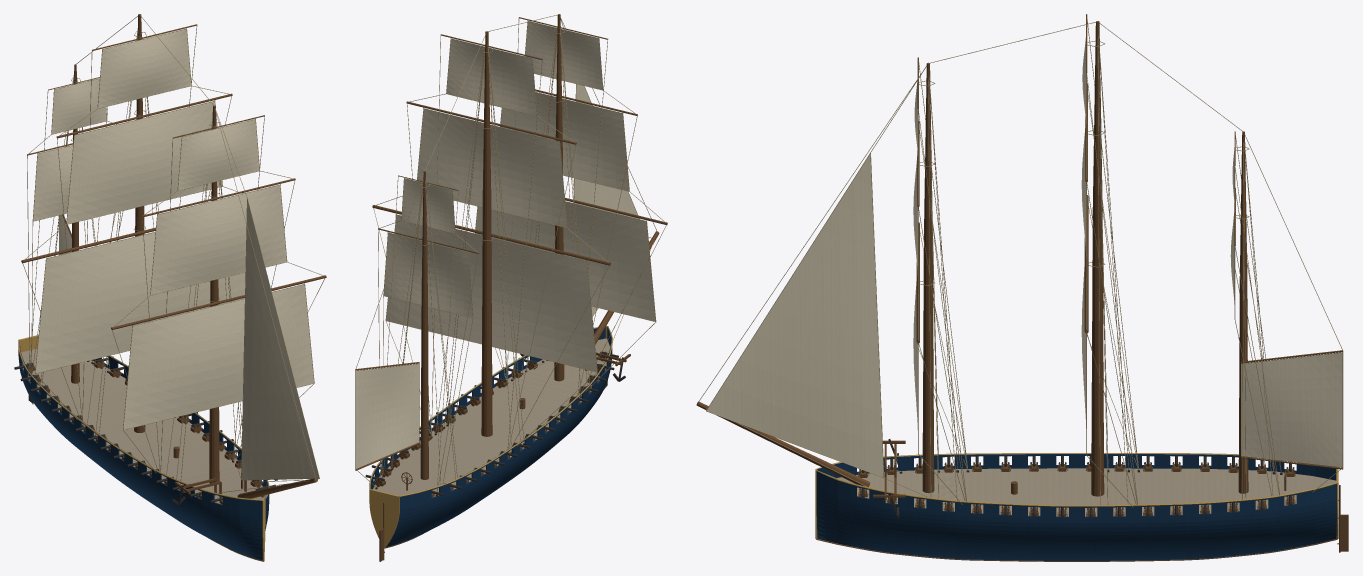
3 renders of one model, left to right at view 1: azimuth 30°, elevation 25°; view 2: azimuth 150°, elevation 25°; view 3: azimuth 270°, elevation 25°, orthographic. The views are drawn at different scales.
Visible parts, largest first — view 1: lod2_fore_square_00, lod2_main_square_00, lod2_jib_00, lod2_main_square_01, lod2_main_deck, lod2_fore_square_01, lod2_hull_shell_starboard, lod2_main_square_02, lod2_fore_square_02, lod2_mizzen_square_00, lod2_mizzen_square_01, lod2_fore (+10 smaller); view 2: lod2_main_square_00, lod2_main_square_01, lod2_main_deck, lod2_fore_square_00, lod2_hull_shell_starboard, lod2_fore_square_01, lod2_mizzen_gaff_02, lod2_mizzen_square_00, lod2_main_square_02, lod2_main, lod2_fore_square_02, lod2_mizzen (+12 smaller); view 3: lod2_jib_00, lod2_hull_shell_port, lod2_main_deck, lod2_mizzen_gaff_02, lod2_main, lod2_hull_shell_starboard, lod2_fore, lod2_mizzen, lod2_gunwale_port, lod2_bowsprit, lod2_keel.
Boxes of the visible parts, x1=… form: lod2_fore_square_00: x1=123, y1=284, x2=313, y2=429; lod2_main_square_00: x1=35, y1=232, x2=245, y2=372; lod2_jib_00: x1=241, y1=200, x2=319, y2=479; lod2_main_square_01: x1=67, y1=101, x2=222, y2=223; lod2_main_deck: x1=21, y1=348, x2=266, y2=504; lod2_fore_square_01: x1=151, y1=185, x2=286, y2=294; lod2_hull_shell_starboard: x1=19, y1=340, x2=262, y2=560; lod2_main_square_02: x1=98, y1=29, x2=191, y2=108; lod2_fore_square_02: x1=178, y1=119, x2=259, y2=190; lod2_mizzen_square_00: x1=33, y1=145, x2=72, y2=220; lod2_mizzen_square_01: x1=51, y1=78, x2=106, y2=133; lod2_fore: x1=209, y1=105, x2=219, y2=483; lod2_main_square_00: x1=386, y1=215, x2=597, y2=371; lod2_main_square_01: x1=417, y1=109, x2=566, y2=227; lod2_main_deck: x1=373, y1=338, x2=609, y2=496; lod2_fore_square_00: x1=475, y1=201, x2=655, y2=321; lod2_hull_shell_starboard: x1=386, y1=327, x2=612, y2=547; lod2_fore_square_01: x1=500, y1=92, x2=629, y2=190; lod2_mizzen_gaff_02: x1=356, y1=364, x2=418, y2=468; lod2_mizzen_square_00: x1=384, y1=233, x2=472, y2=317; lod2_main_square_02: x1=446, y1=39, x2=536, y2=115; lod2_main: x1=481, y1=31, x2=492, y2=436; lod2_fore_square_02: x1=525, y1=21, x2=602, y2=89; lod2_mizzen: x1=420, y1=171, x2=428, y2=479; lod2_jib_00: x1=707, y1=154, x2=883, y2=477; lod2_hull_shell_port: x1=816, y1=471, x2=1336, y2=560; lod2_main_deck: x1=837, y1=468, x2=1336, y2=516; lod2_mizzen_gaff_02: x1=1241, y1=352, x2=1342, y2=466; lod2_main: x1=1091, y1=21, x2=1104, y2=496; lod2_hull_shell_starboard: x1=817, y1=454, x2=1336, y2=480; lod2_fore: x1=922, y1=62, x2=934, y2=493; lod2_mizzen: x1=1238, y1=131, x2=1248, y2=493; lod2_gunwale_port: x1=816, y1=470, x2=1337, y2=506; lod2_bowsprit: x1=696, y1=401, x2=870, y2=487; lod2_keel: x1=816, y1=538, x2=1337, y2=561.
Size of the model in its own units: 25.92 by 48.07 by 52.57.
Materials: 7 (7 with a texture image).
